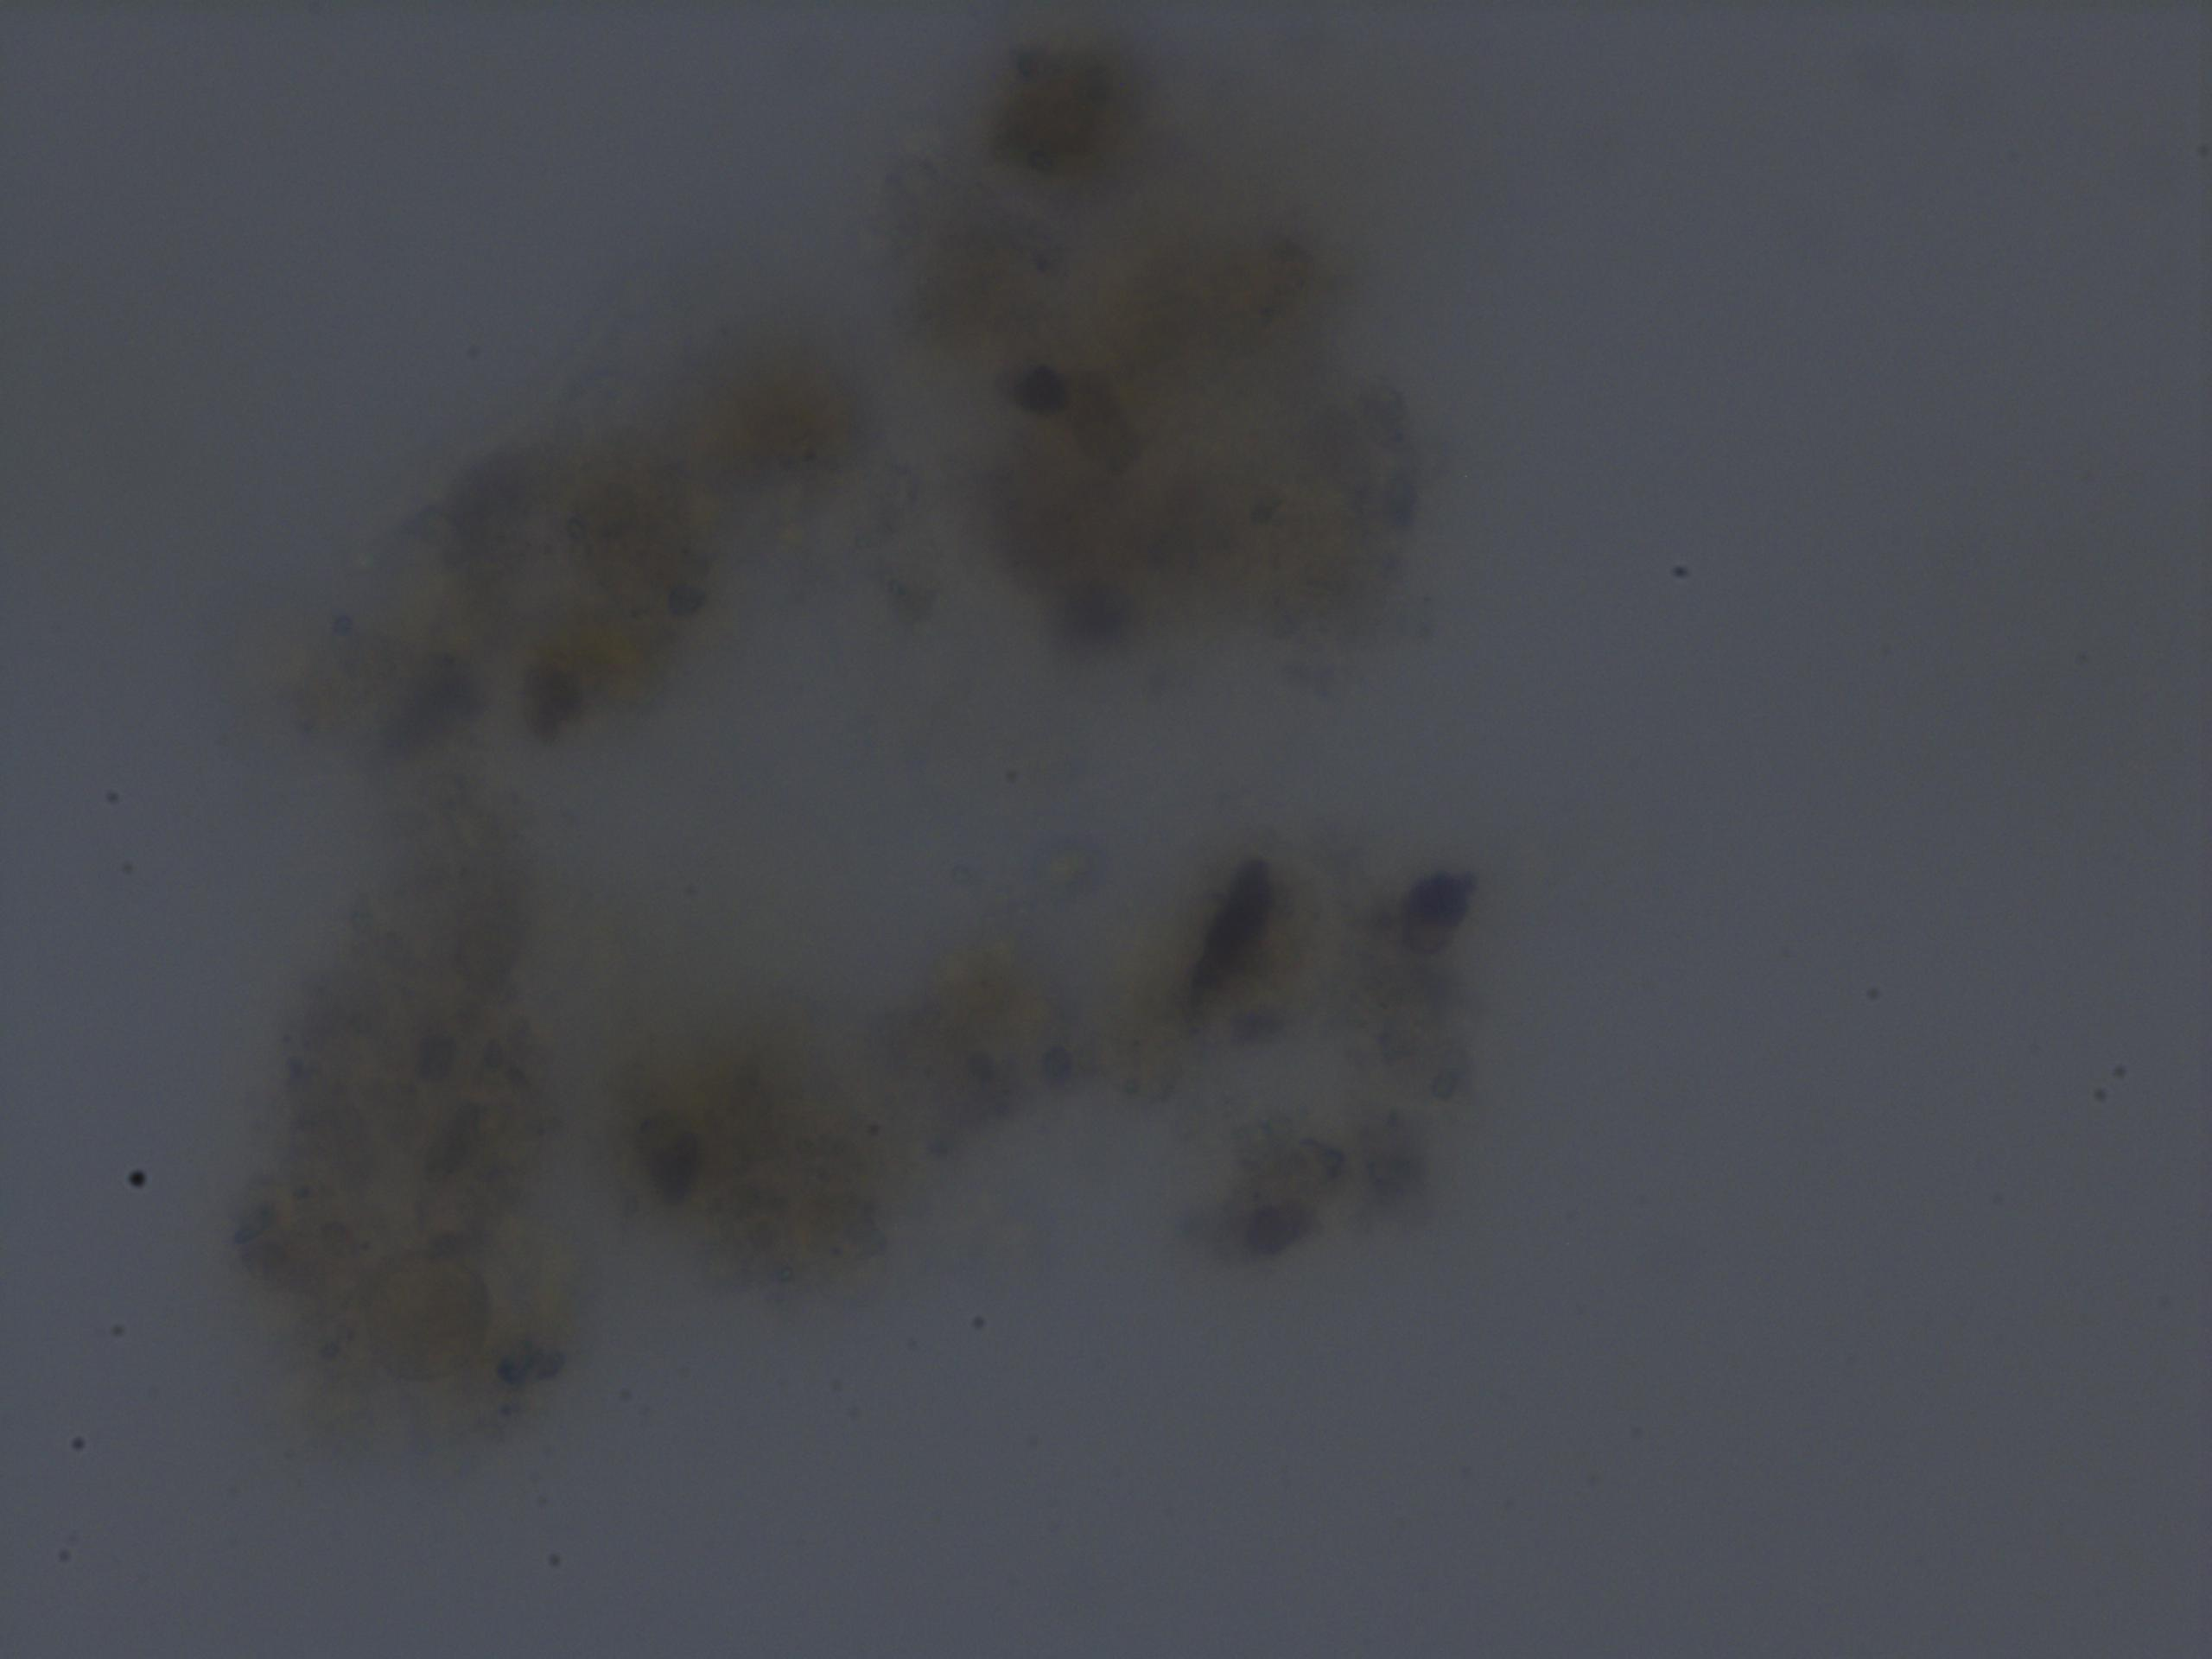open_floc: (209, 0, 1515, 1445)
